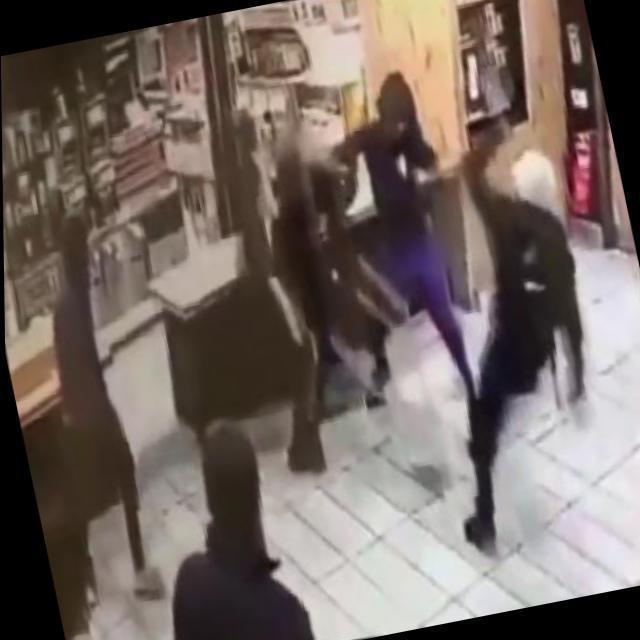fight: (258, 56, 492, 428)
